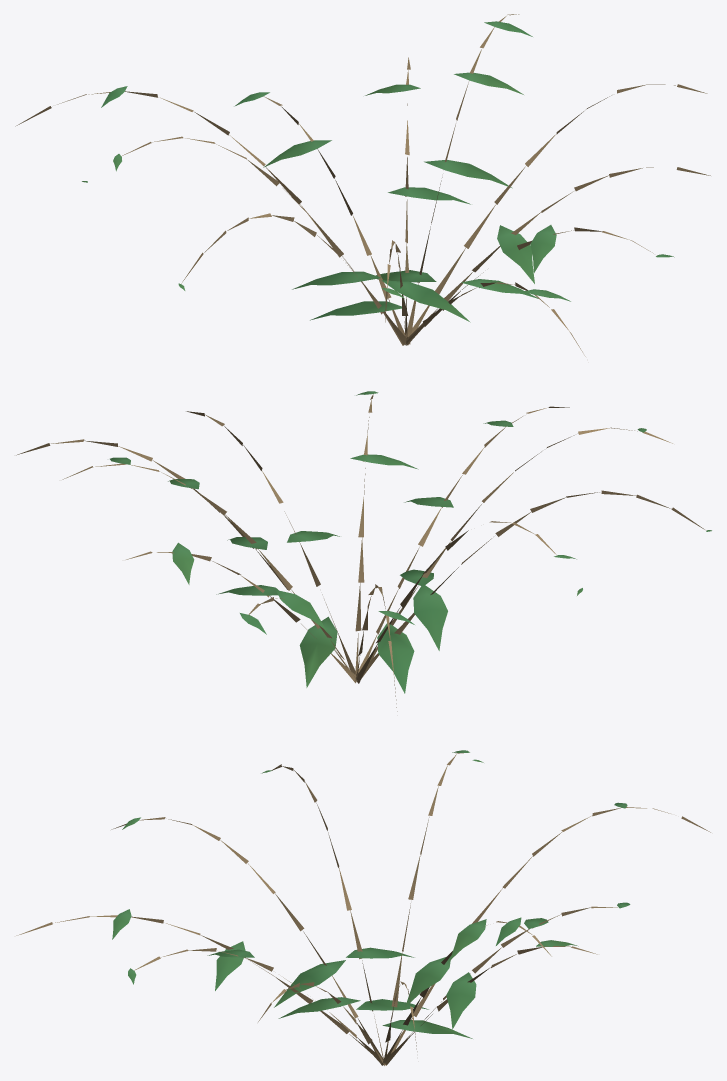
The model's file is fern_giant_LOD2.glb.
The picture shows the model from 3 angles, top to bottom: view 1: azimuth 30°, elevation 25°; view 2: azimuth 150°, elevation 25°; view 3: azimuth 270°, elevation 25°; orthographic projection. The views are drawn at different scales.
Parts seen in each view (by area): view 1: fern_giant_LOD2; view 2: fern_giant_LOD2; view 3: fern_giant_LOD2.
Boxes of the visible parts, box(x1,y1,x2,y2) form: fern_giant_LOD2: box(15, 14, 710, 356); fern_giant_LOD2: box(16, 391, 711, 711); fern_giant_LOD2: box(16, 750, 710, 1065).
Size of the model in its own units: 3.83 by 1.4 by 4.06.
